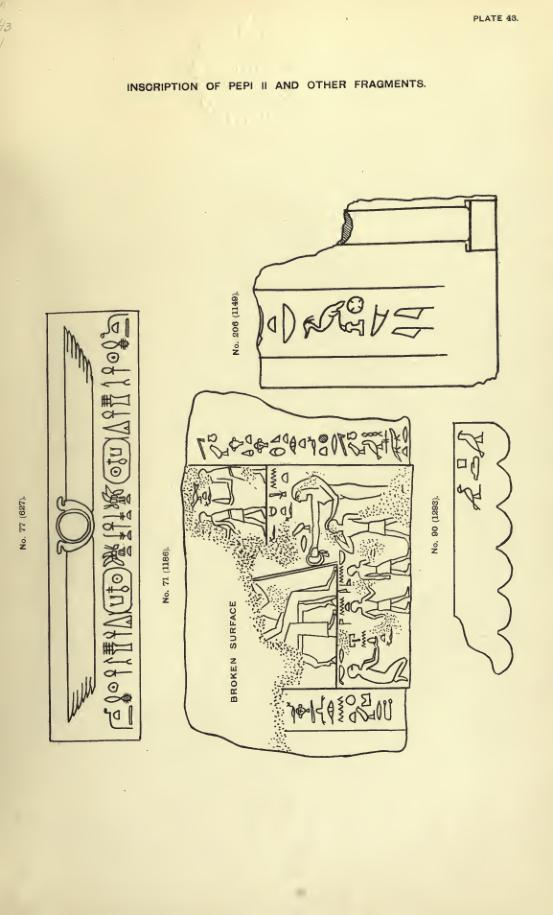circle: (99, 435, 133, 485), (101, 567, 135, 615)
